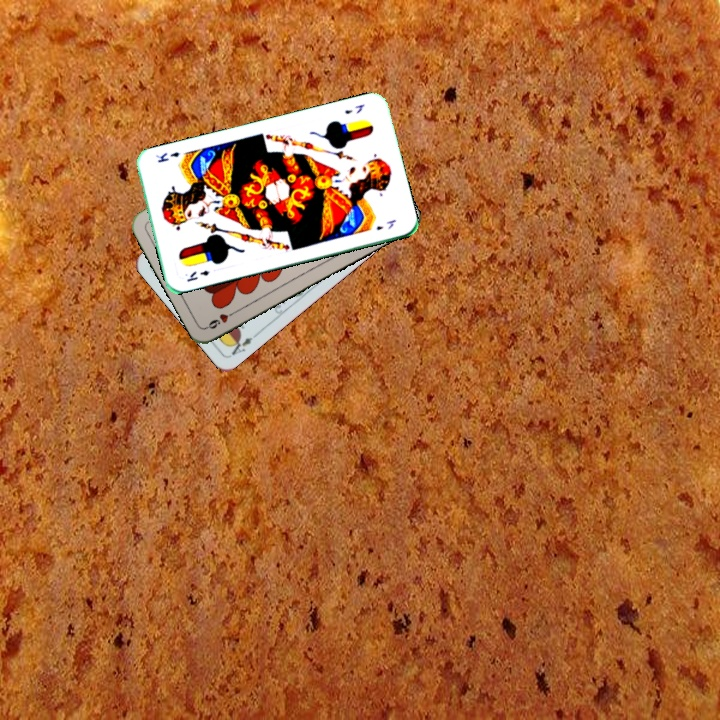EA: (225, 329, 261, 358)
EK: (183, 266, 212, 285), (340, 100, 367, 117)
H9: (203, 306, 240, 332)
